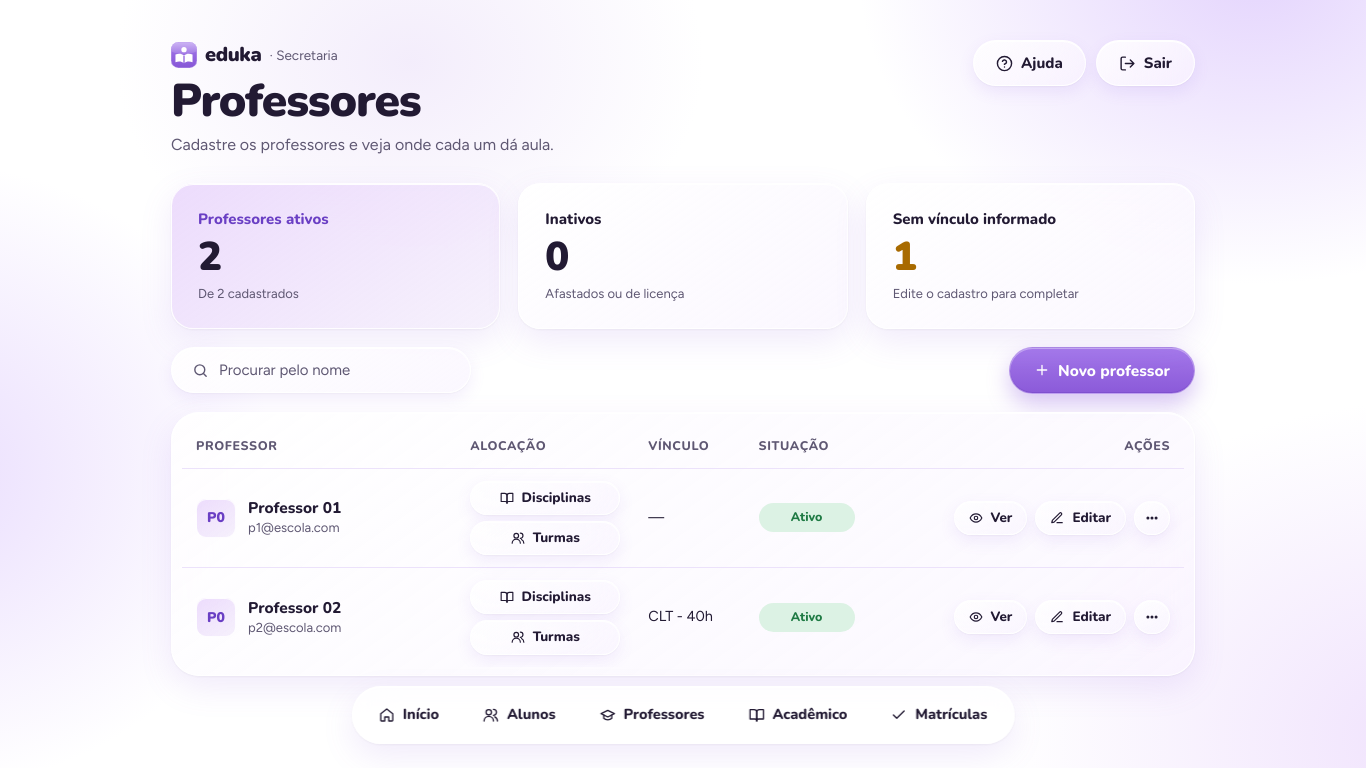
Scenario: Professores › os botões Disciplinas e Turmas da linha abrem o modal com as alocações do professor
Click the button with aria-label "Disciplinas de Professor 02": click(545, 597) 470,580 -> 620,614
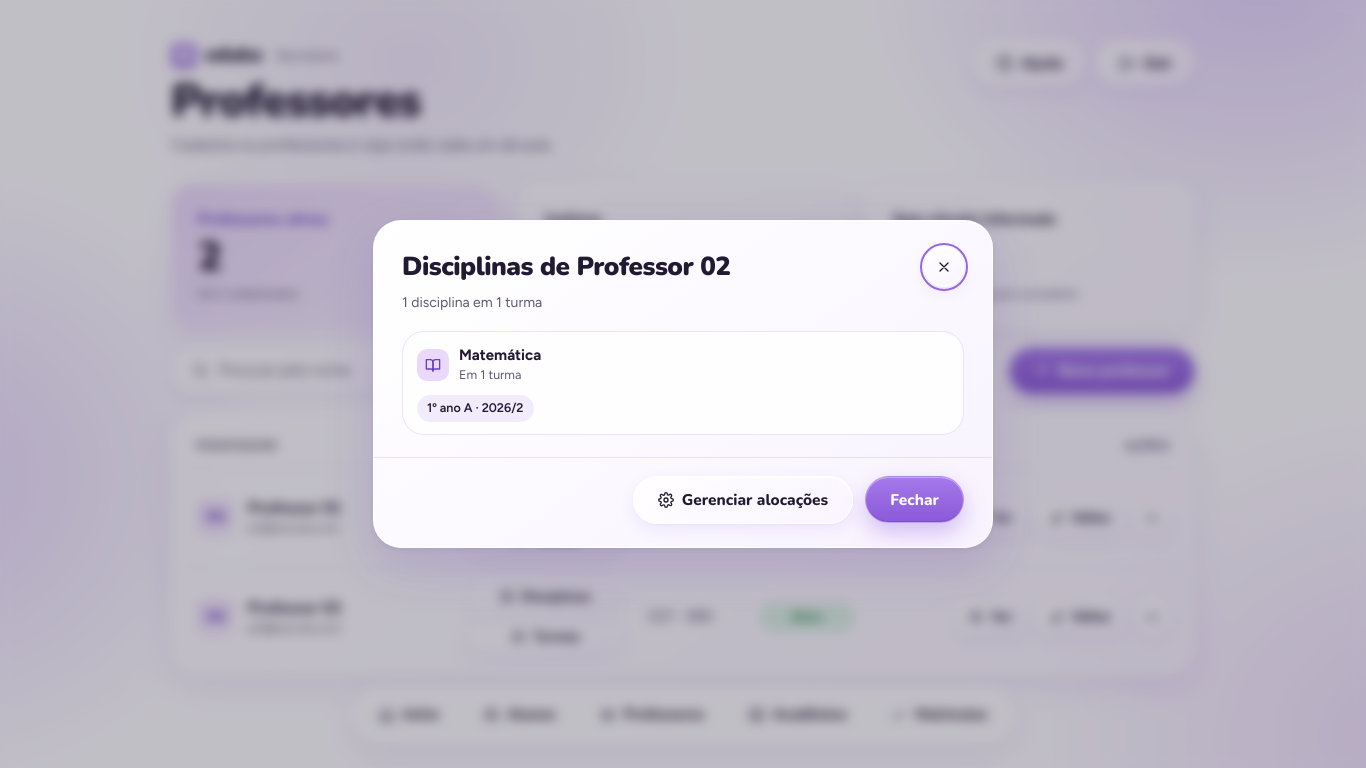
Expected: the text "Matemática" is shown, 459,344 -> 541,366
Expected: the list item "1º ano A · 2026/2" is shown, 417,395 -> 534,422
Click the button named "Fechar": click(944, 267) 924,247 -> 964,287
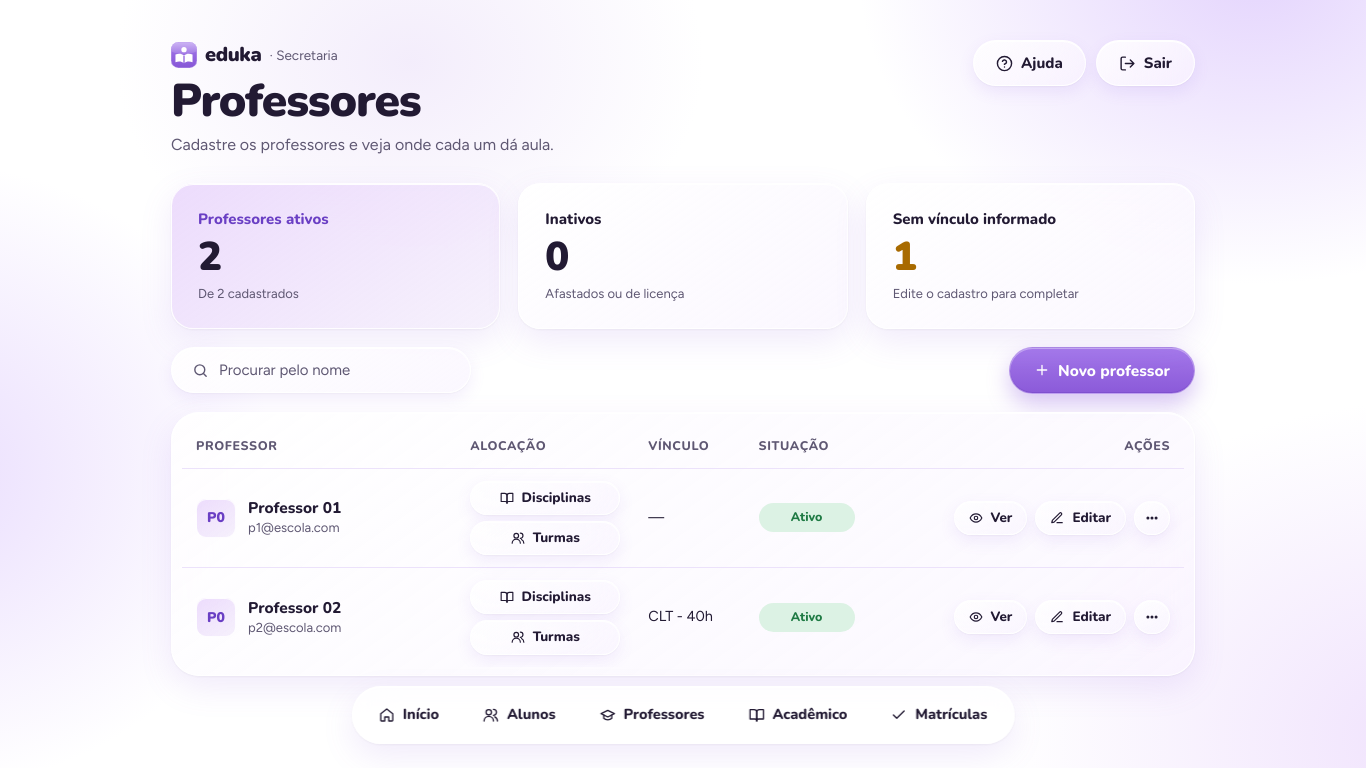
Expected: the dialog is gone
Click the button with aria-label "Turmas de Professor 02": click(545, 637) 470,620 -> 620,655
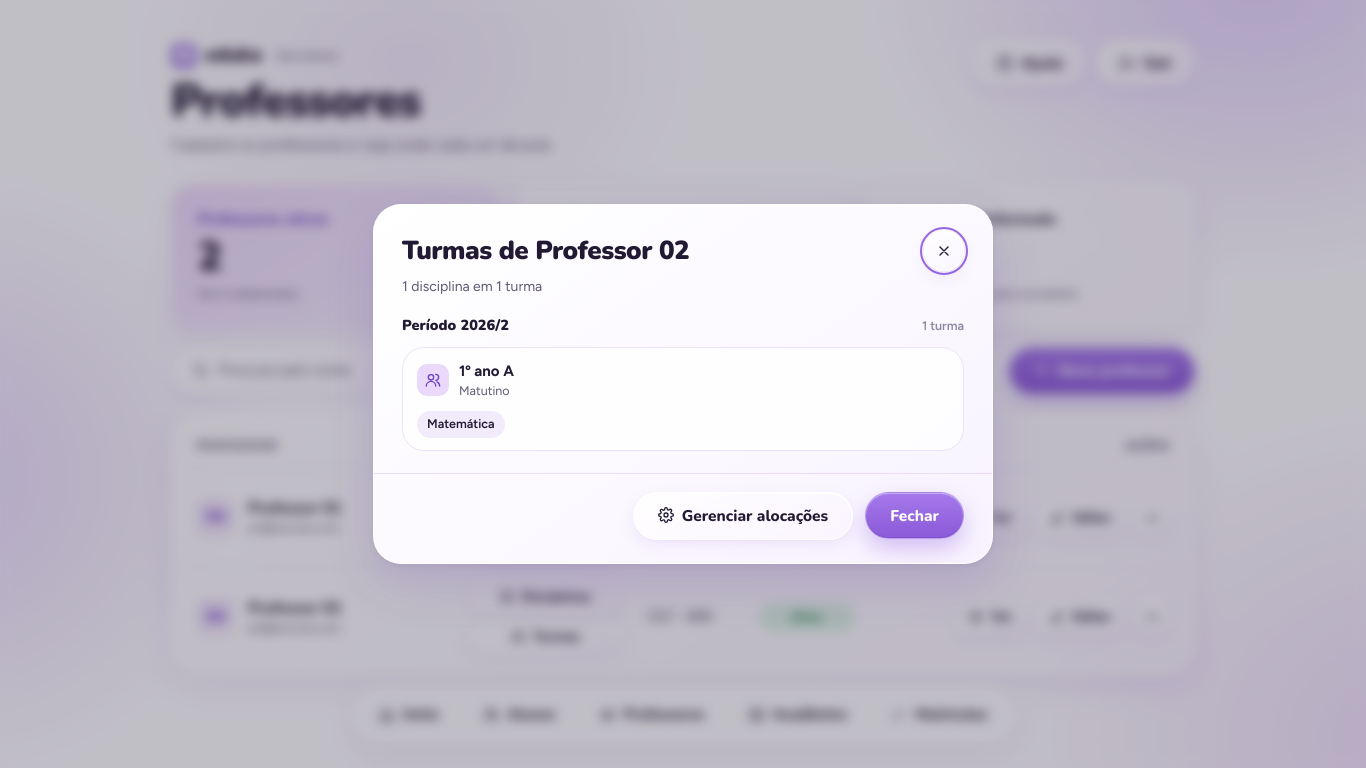
Expected: the text "1º ano A" is shown, 459,360 -> 514,382
Expected: the element "Período 2026/2" shows "Matutino", 459,383 -> 510,398
